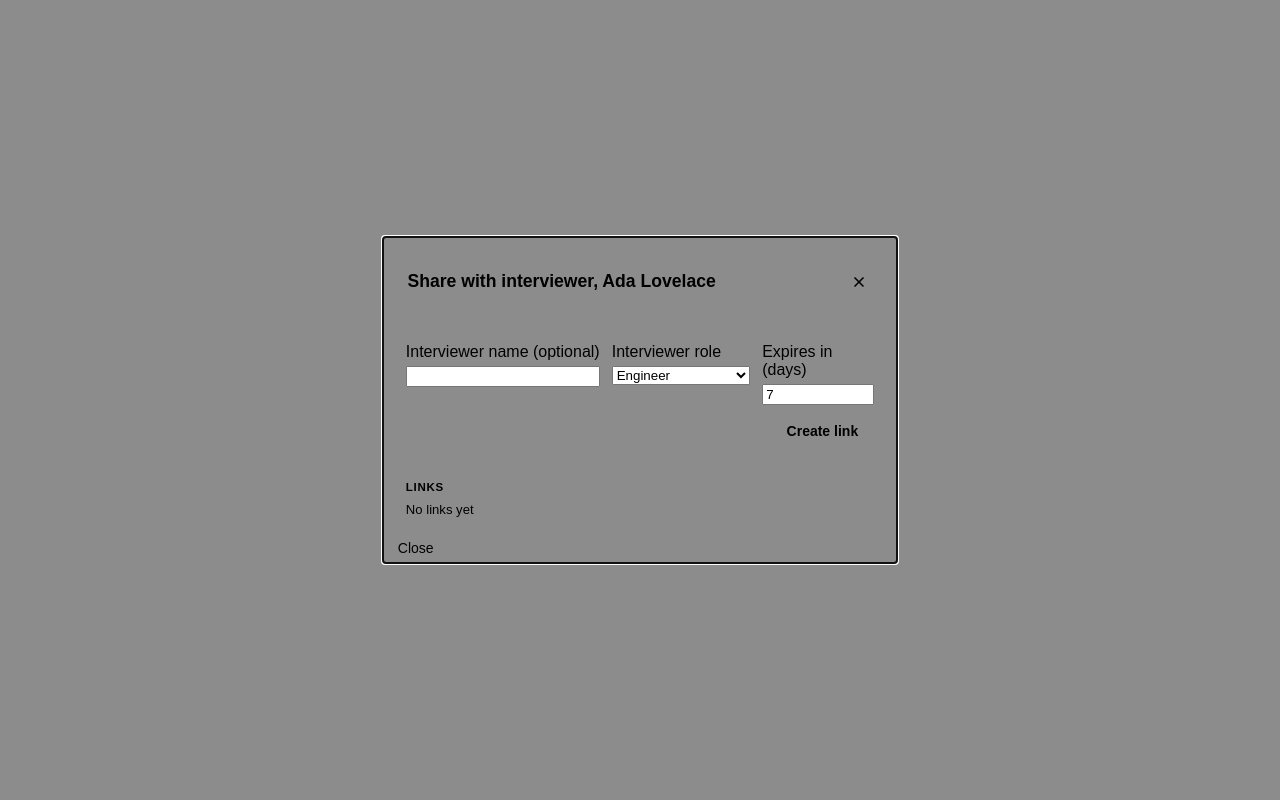
Test: creating a link › sends the name, role and expiry, then shows the link once with a Copy button and a notice
Step 1. Type "  Priya Nair " into the field labelled "Interviewer name (optional)" → (503, 376), box [406,366,600,386]
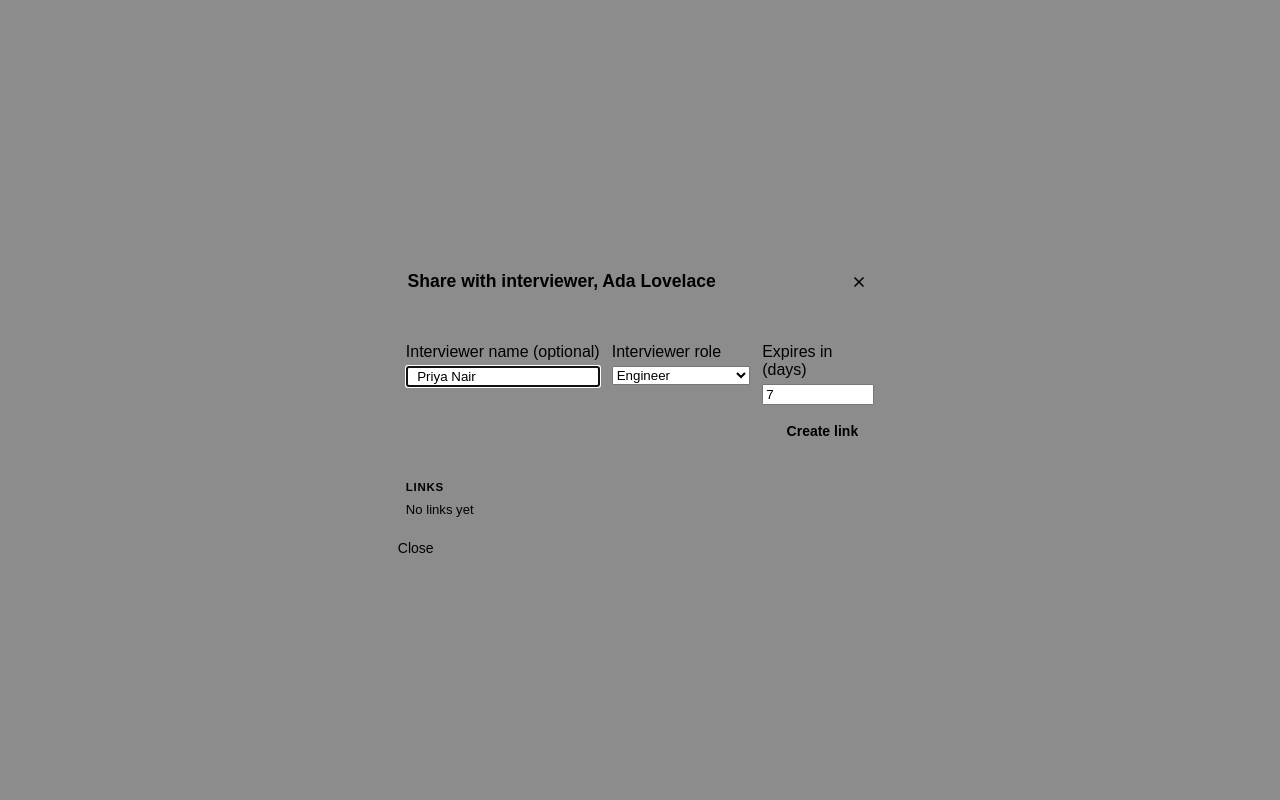
Step 2. Select "Hiring manager" in the dropdown labelled "Interviewer role" → (681, 375), box [612,366,750,384]
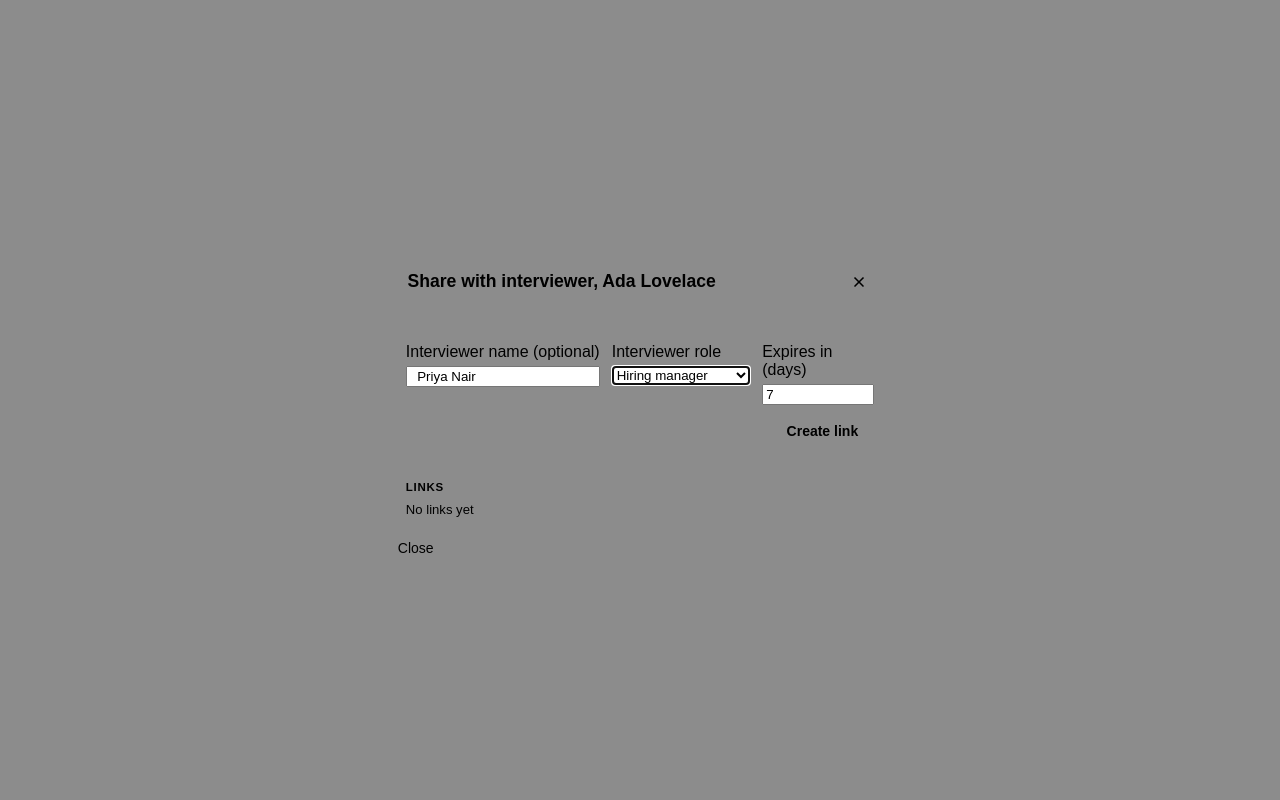
Step 3. Clear the number field labelled "Expires in (days)" → (818, 394), box [762,384,874,404]
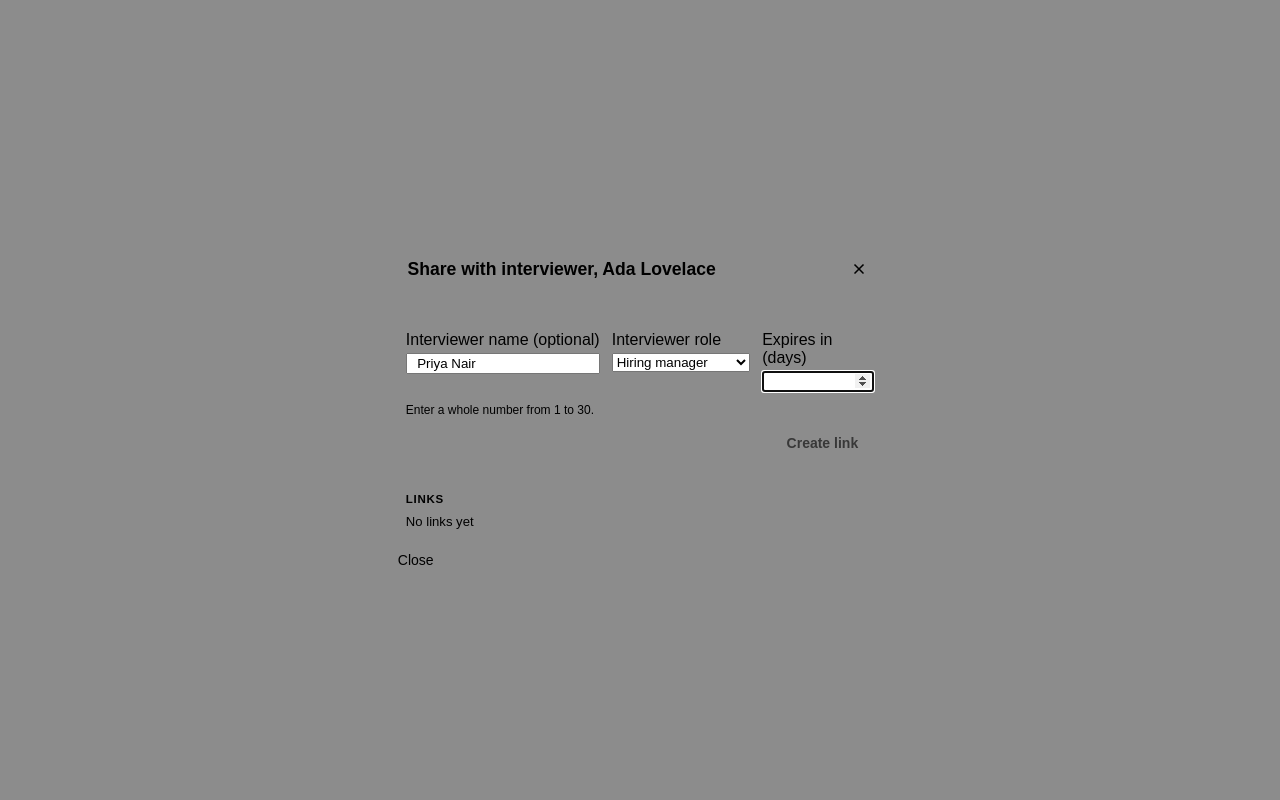
Step 4. Type "14" into the number field labelled "Expires in (days)" → (818, 382), box [762,371,874,392]
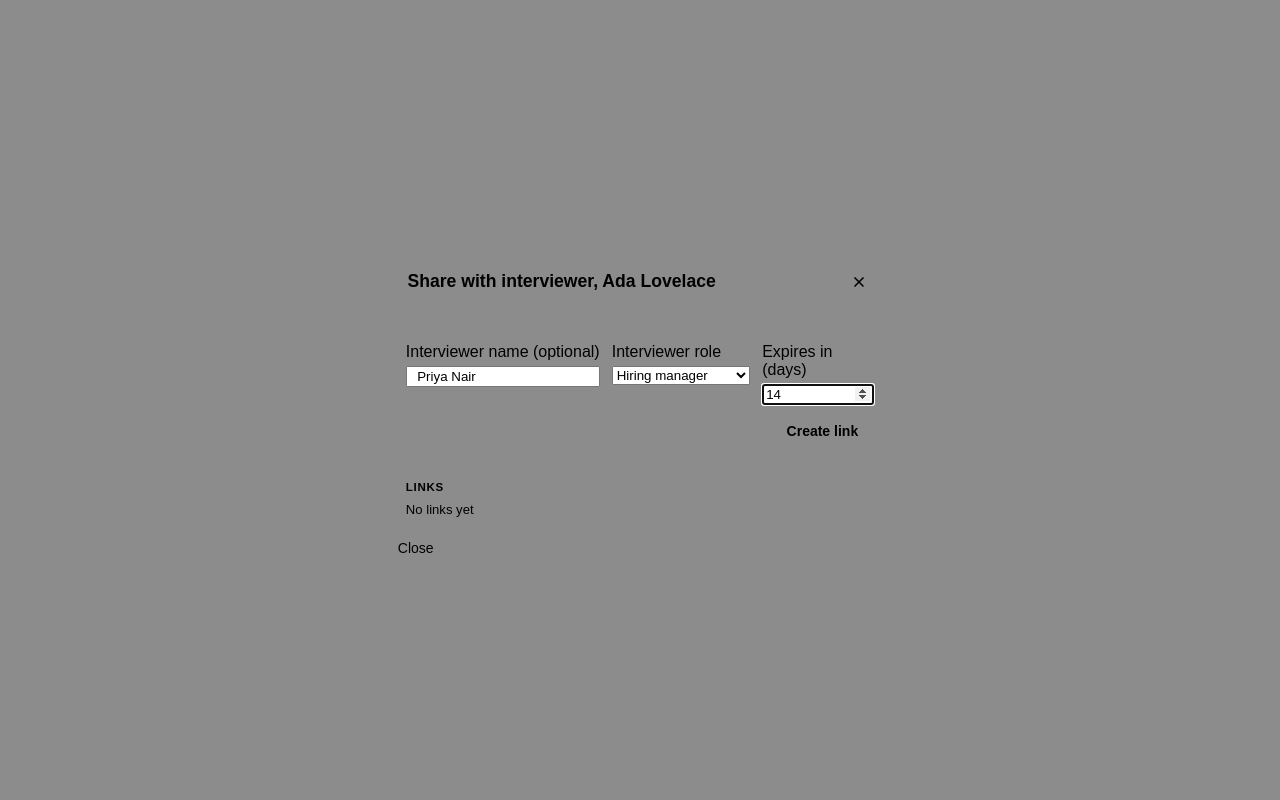
Step 5. Click the button "Create link" → (822, 431), box [771,415,874,447]
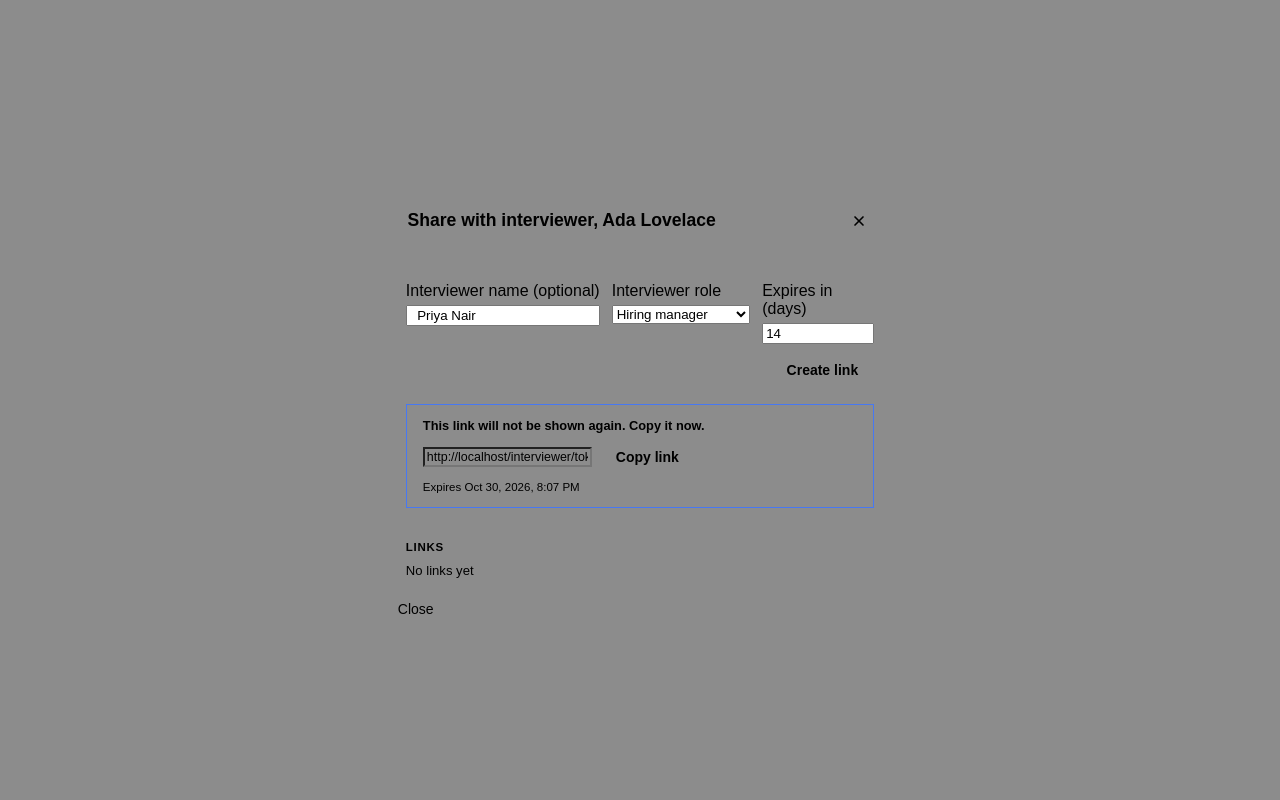
Result: the text "This link will not be shown again. Copy it now." is shown at [423,418,705,433]
Result: the button "Copy link" is shown at [600,441,695,473]
Result: the text "Expires Oct 30, 2026, 8:07 PM" is shown at [423,481,580,493]
